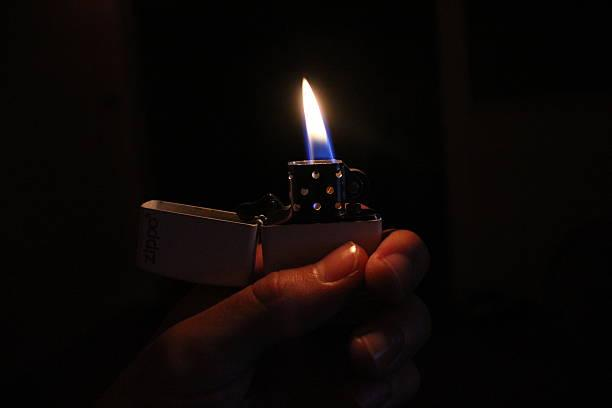Fire: (298, 75, 337, 161)
